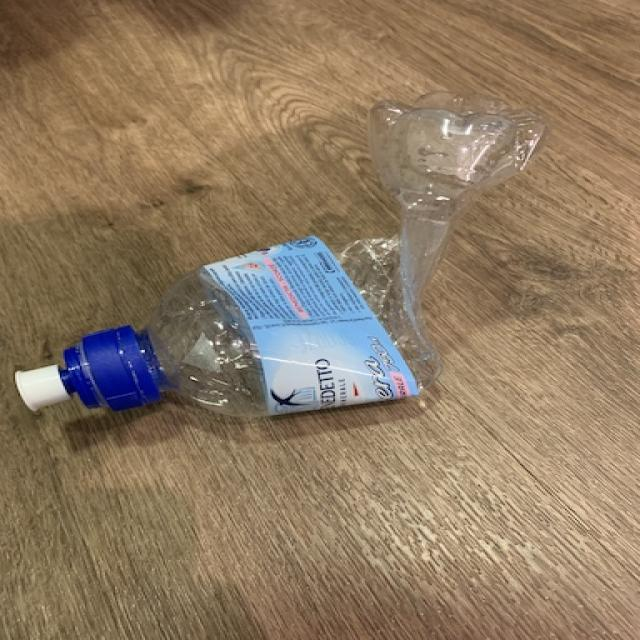Waste: (15, 92, 547, 417)
